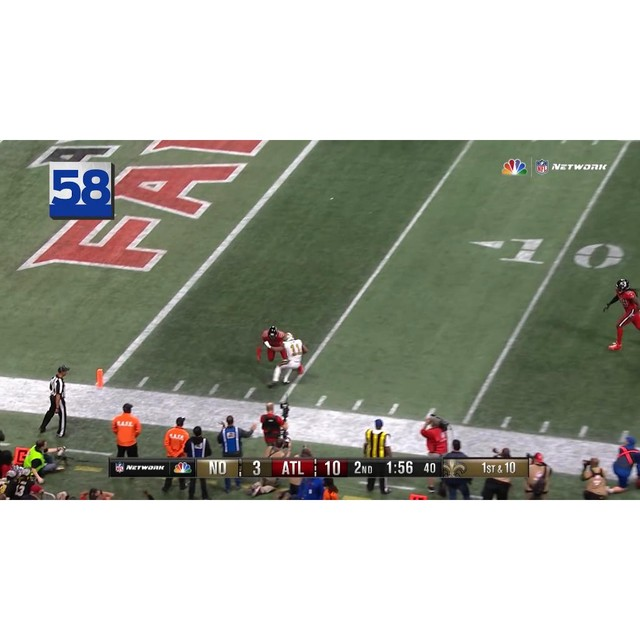american-football-player: (603, 279, 640, 351), (266, 331, 308, 388)
